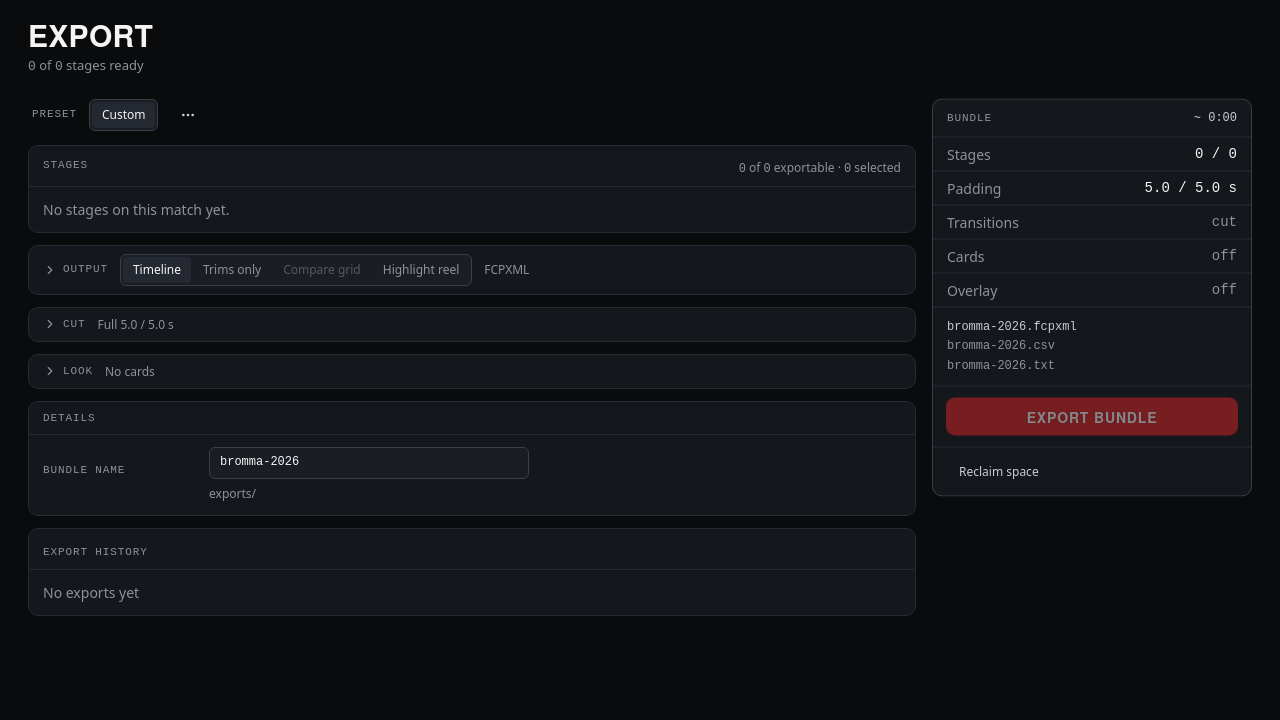
Test: Export page cleanup entry point › opens the cleanup dialog from the Export page
Click the button "Reclaim space": (999, 472) [947,456,1051,488]
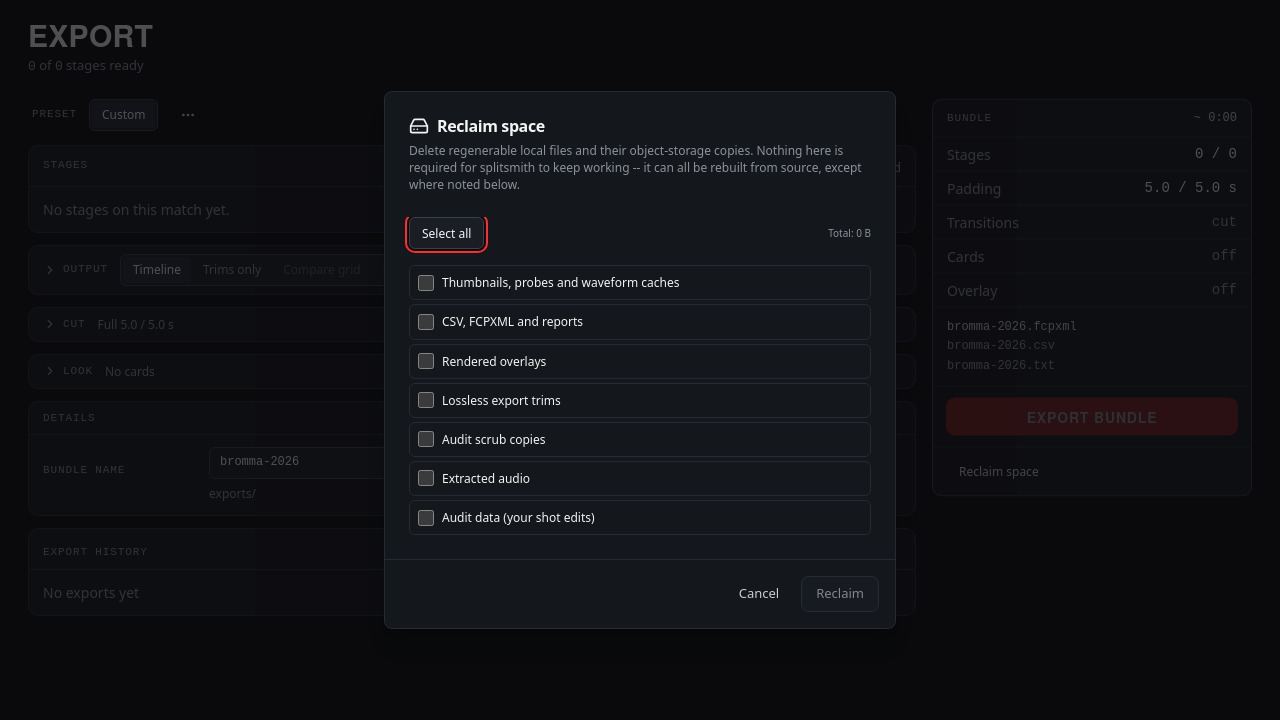
Check: the dialog "Reclaim space" is shown, box [384,91,896,629]
